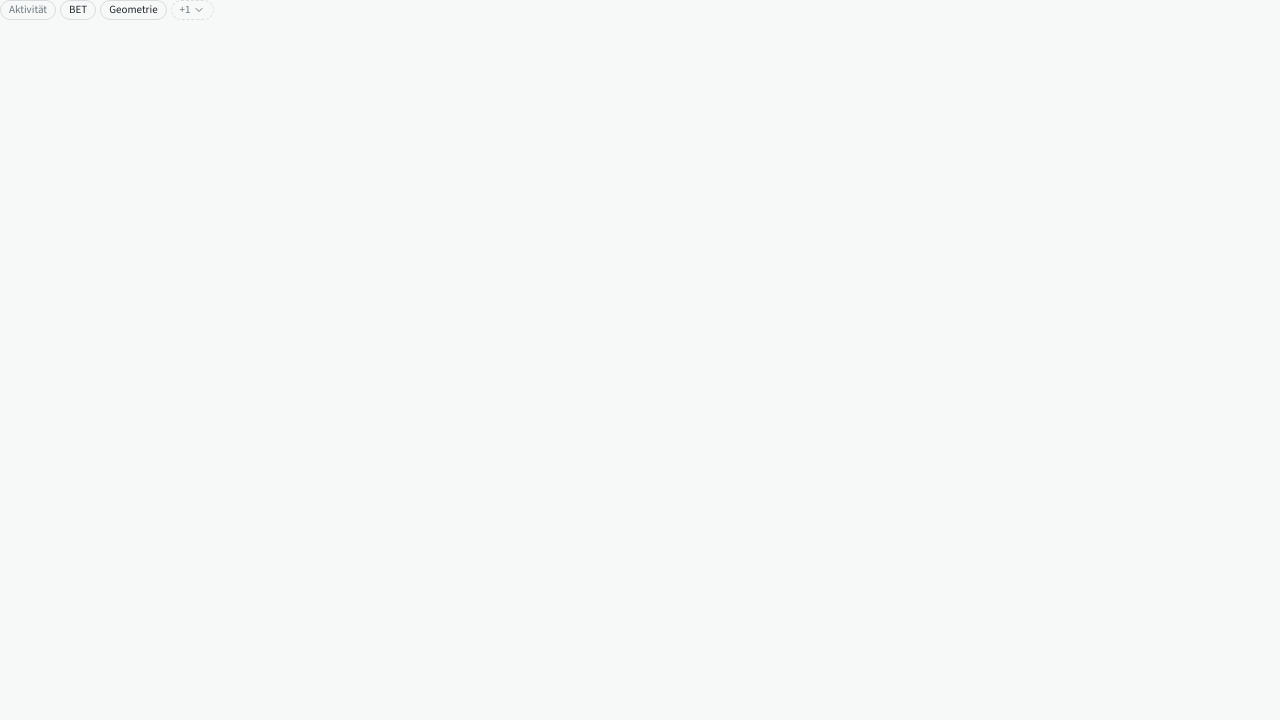
Scenario: ServiceChips › Klick öffnet die Details je Messart mit Anzahl offiziell/vorläufig
Click the button named "Messarten anzeigen (4)" at (192, 10), box x1=171 y1=0 x2=214 y2=20
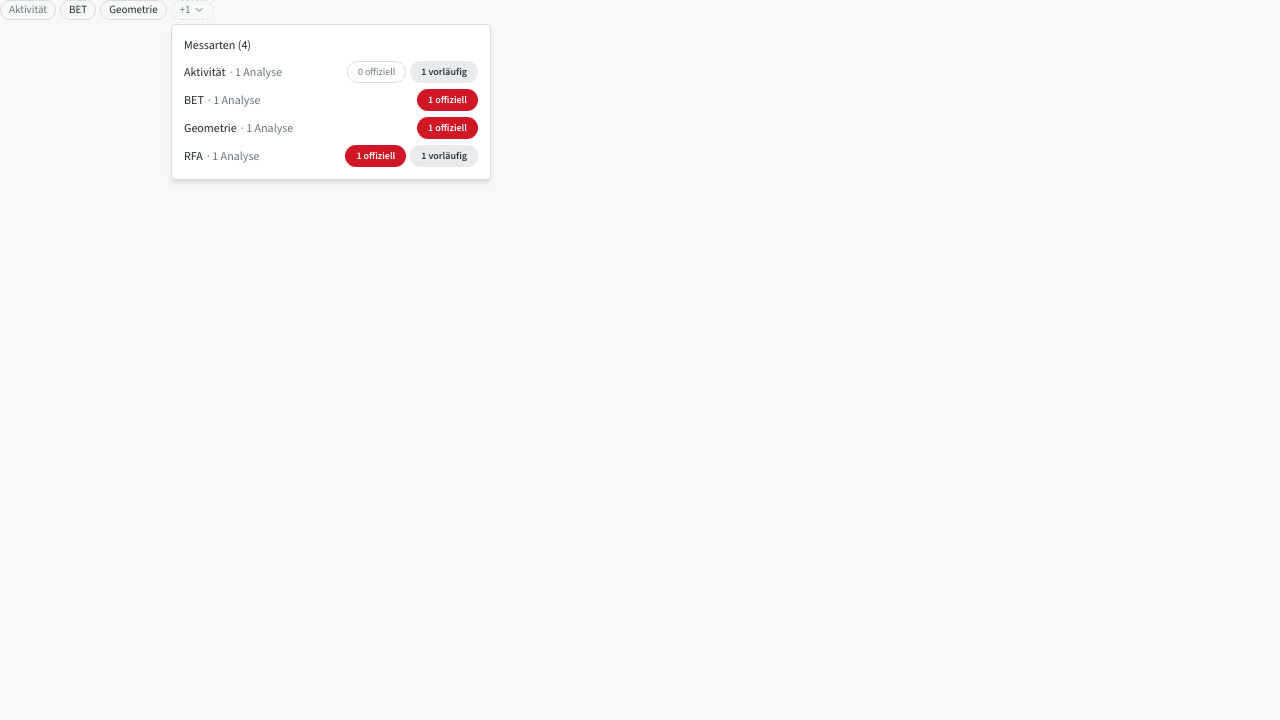
Result: the text "1 offiziell" in the row of "RFA" is shown at x1=345 y1=145 x2=406 y2=167
Result: the text "1 vorläufig" in the row of "RFA" is shown at x1=410 y1=145 x2=478 y2=167
Result: the text "0 offiziell" is shown at x1=347 y1=61 x2=406 y2=83
